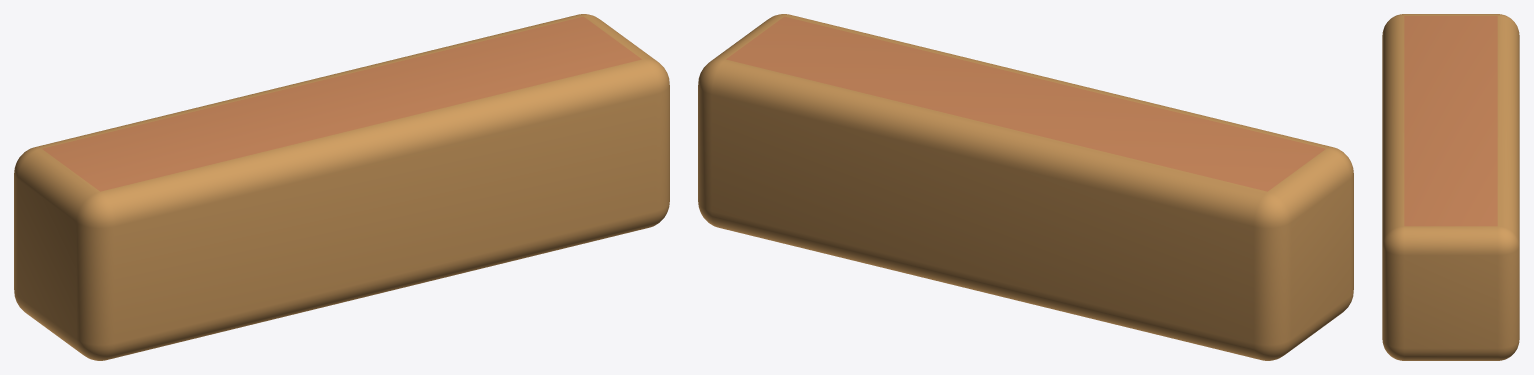
The model's file is Vector.fbx.
The picture shows the model from 3 angles, left to right: view 1: azimuth 30°, elevation 25°; view 2: azimuth 150°, elevation 25°; view 3: azimuth 270°, elevation 25°; orthographic projection. The views are drawn at different scales.
Parts seen in each view (by area): view 1: Cube; view 2: Cube; view 3: Cube.
Boxes of the visible parts, box(x1,y1,x2,y2) form: Cube: box(14, 14, 669, 360); Cube: box(698, 14, 1353, 360); Cube: box(1382, 14, 1519, 360).
Bounding box in the file's own units: 790 × 213 × 200.
